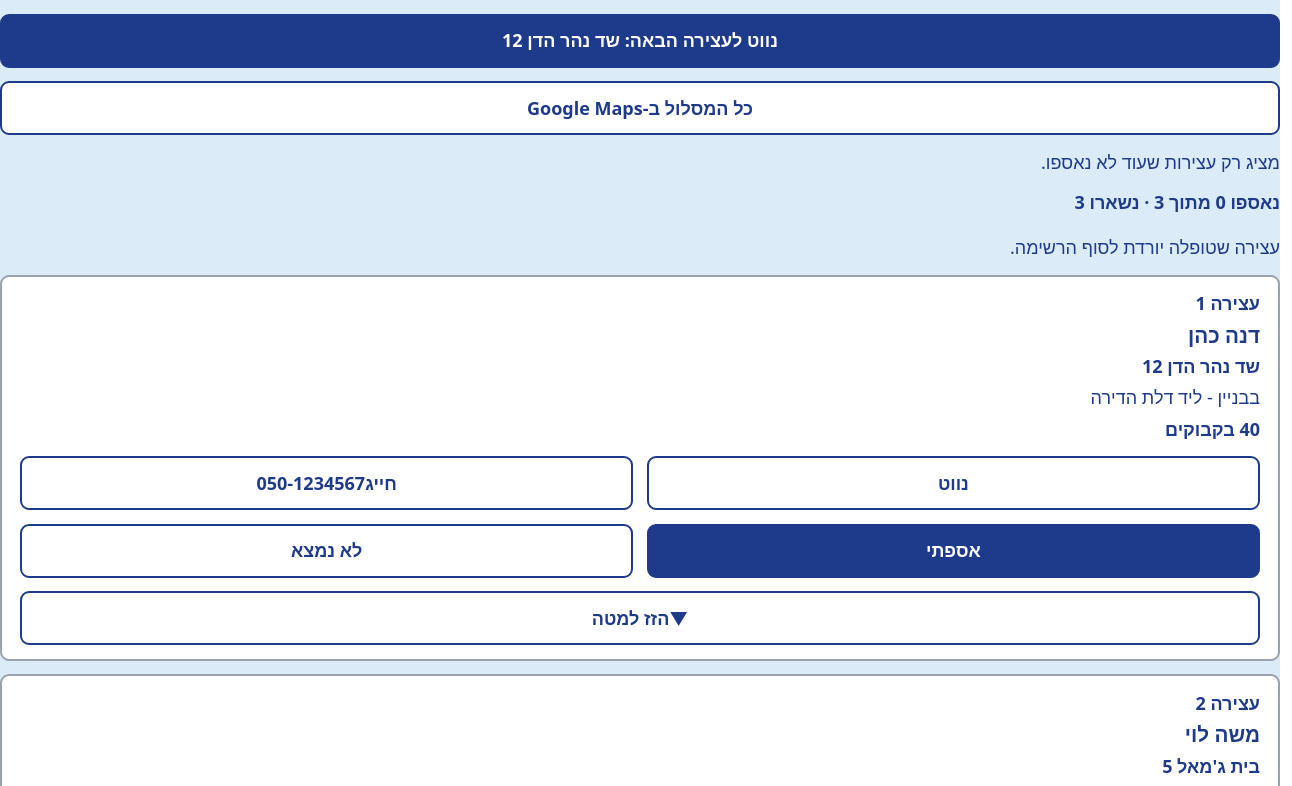
RouteScreen "אספתי" › sends the estimate, then moves the card to the end with its "שלח תודה" row
The width and height of the screenshot is (1292, 786).
Click the button named "אספתי, דנה כהן" at (953, 551), box [647, 524, 1260, 578]
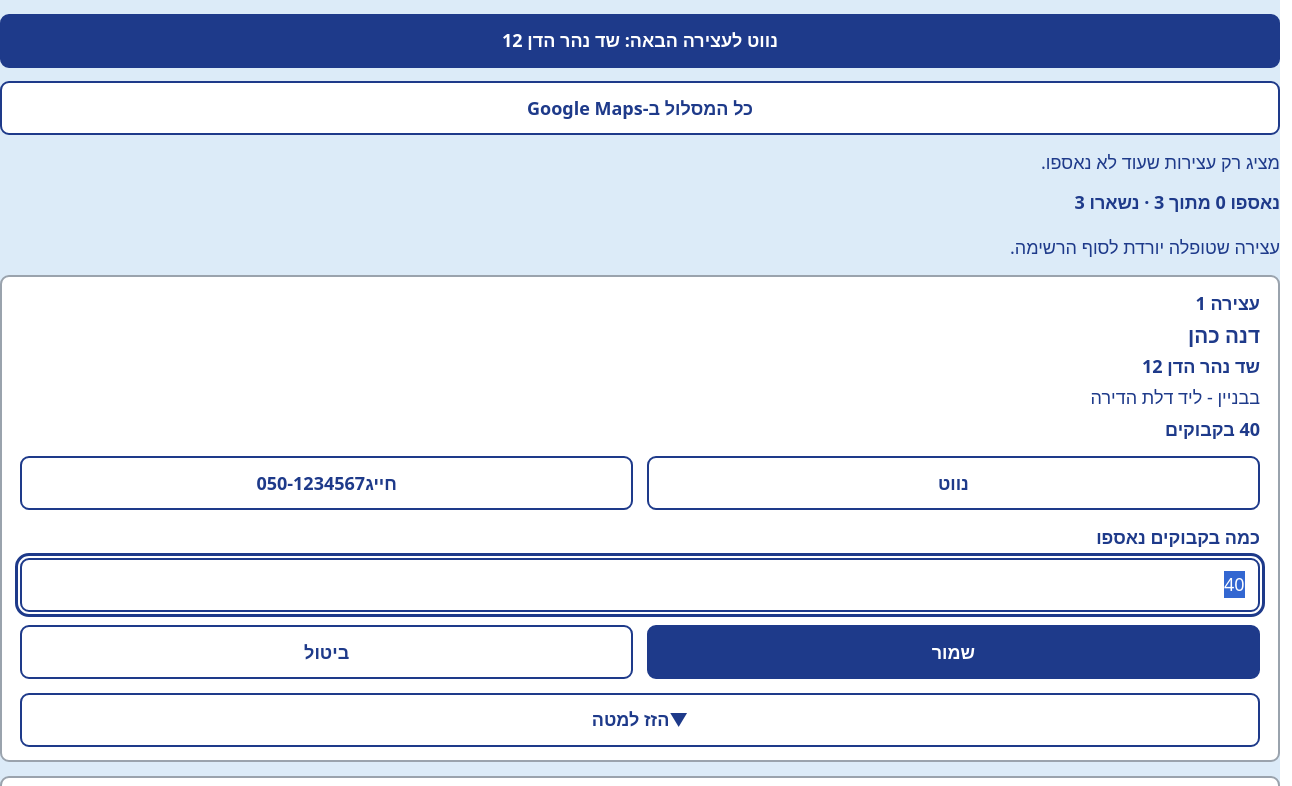
Click the button "שמור" at (953, 652), box [647, 625, 1260, 679]
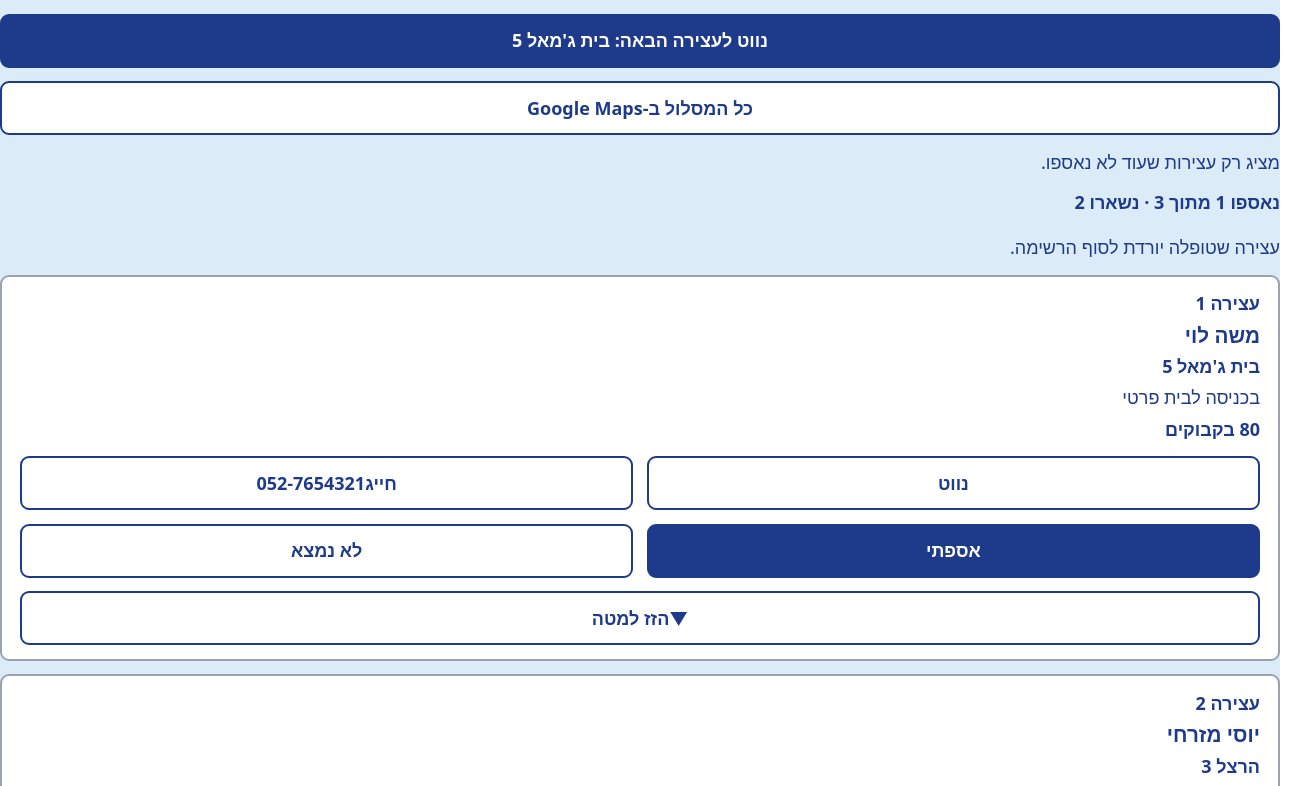
Now the text "נאספו 1 מתוך 3 · נשארו 2" is shown, box [1074, 190, 1280, 214]
